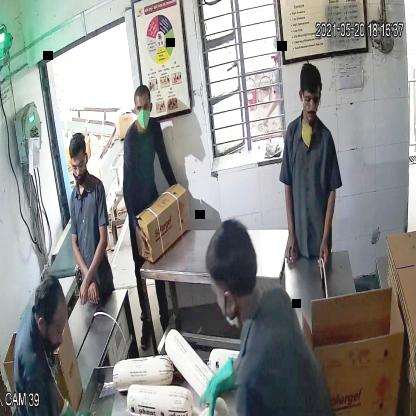goggles: (298, 86, 324, 111), (66, 152, 92, 175)
